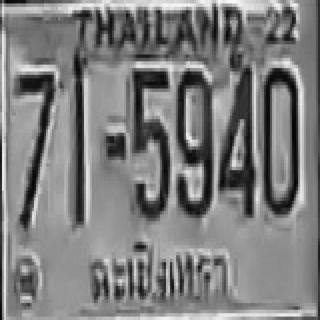N00: (262, 64, 298, 211)
N04: (216, 61, 254, 214)
N05: (130, 66, 168, 216)
N07: (14, 68, 54, 228)
N09: (174, 68, 212, 214)
P07: (82, 236, 237, 310)
